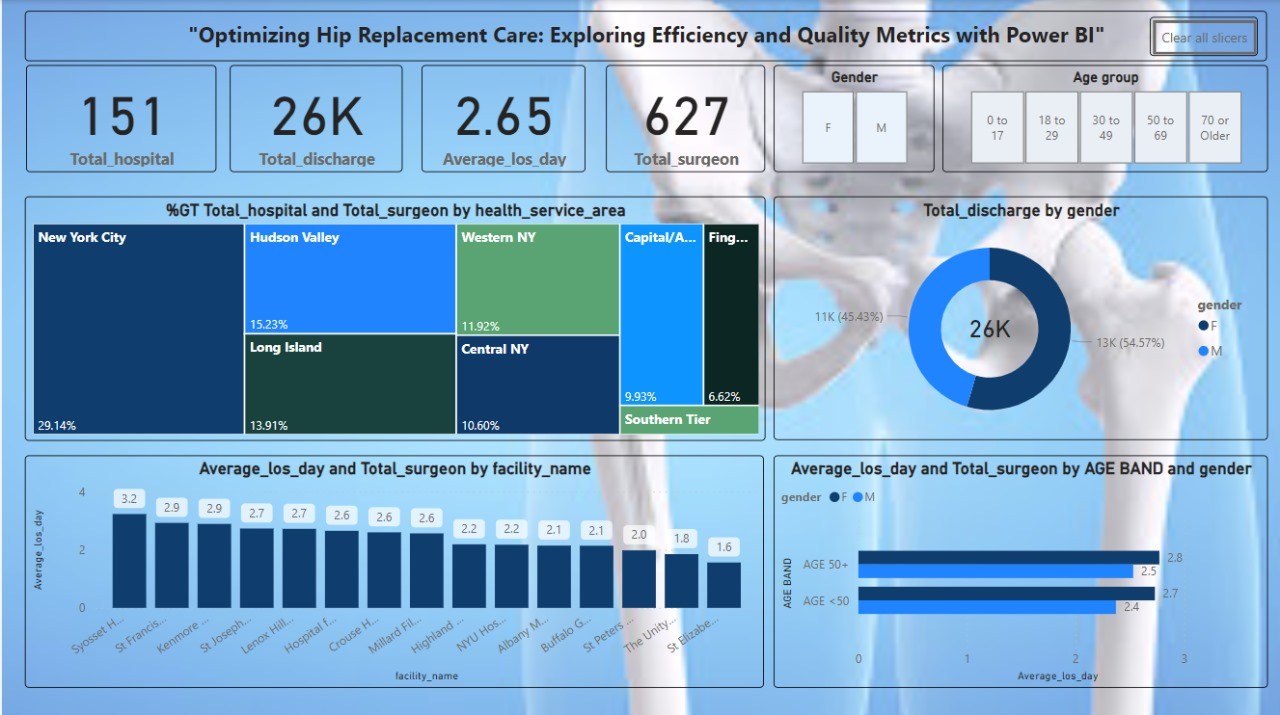

Layout of this report page (visuals, bound fields, positions):
{"tool":"powerbi","page":{"name":"DASHBOARD","canvas":[1280,720],"ordinal":0},"visuals":[{"type":"treemap","fields":{"Values":["measure.Total_hospital"],"Group":["hospital_inpatient_discharges_totalhipreplacement.health_service_area"]},"box":[23.2,196.8,740.8,244.5],"z":0},{"type":"card","fields":{"Values":["measure.Total_hospital"]},"box":[23.8,65,190,107.5],"z":1000},{"type":"donutChart","fields":{"Y":["measure.Total_discharge"],"Category":["hospital_inpatient_discharges_totalhipreplacement.gender"]},"box":[772.1,196.5,494.2,244.2],"z":2000},{"type":"card","fields":{"Values":["measure.Total_discharge"]},"box":[227.5,65,172.5,107.5],"z":3000},{"type":"card","fields":{"Values":["measure.Average_los_day"]},"box":[420,65,163.8,107.5],"z":4000},{"type":"clusteredBarChart","fields":{"Y":["measure.Average_los_day"],"Series":["hospital_inpatient_discharges_totalhipreplacement.gender"],"Category":["hospital_inpatient_discharges_totalhipreplacement.AGE BAND"]},"box":[772.1,455.8,494.2,232.6],"z":5000},{"type":"lineStackedColumnComboChart","fields":{"Y":["measure.Average_los_day"],"Category":["hospital_inpatient_discharges_totalhipreplacement.facility_name"]},"box":[23.3,455.8,739.5,232.6],"z":6000},{"type":"card","fields":{"Values":["measure.Total_surgeon"]},"box":[603.9,64.8,158.9,107.6],"z":7000},{"type":"textbox","box":[23.3,11.1,1242.2,50],"z":8000},{"type":"actionButton","box":[1147.8,16.7,107.8,38.9],"z":9000},{"type":"slicer","title":"Gender","fields":{"Values":["hospital_inpatient_discharges_totalhipreplacement.gender"]},"box":[772.1,65.1,160.5,107],"z":10000},{"type":"slicer","title":"Age group","fields":{"Values":["hospital_inpatient_discharges_totalhipreplacement.age_group"]},"box":[940.7,65.1,325.6,107],"z":11000},{"type":"card","fields":{"Values":["measure.Total_discharge"]},"box":[955.8,308.1,64,41.9],"z":11001}]}

Visuals, with their boxes in screenshot pixels (x1, y1, x2, y2), scaled from the page's 1280x720 canvas onto the 1280x715 screenshot:
treemap - measure.Total_hospital x hospital_inpatient_discharges_totalhipreplacement.health_service_area: {"left": 23, "top": 195, "right": 764, "bottom": 438}
card - measure.Total_hospital: {"left": 24, "top": 65, "right": 214, "bottom": 171}
donutChart - measure.Total_discharge x hospital_inpatient_discharges_totalhipreplacement.gender: {"left": 772, "top": 195, "right": 1266, "bottom": 438}
card - measure.Total_discharge: {"left": 228, "top": 65, "right": 400, "bottom": 171}
card - measure.Average_los_day: {"left": 420, "top": 65, "right": 584, "bottom": 171}
clusteredBarChart - measure.Average_los_day x hospital_inpatient_discharges_totalhipreplacement.gender: {"left": 772, "top": 453, "right": 1266, "bottom": 684}
lineStackedColumnComboChart - measure.Average_los_day x hospital_inpatient_discharges_totalhipreplacement.facility_name: {"left": 23, "top": 453, "right": 763, "bottom": 684}
card - measure.Total_surgeon: {"left": 604, "top": 64, "right": 763, "bottom": 171}
textbox: {"left": 23, "top": 11, "right": 1266, "bottom": 61}
actionButton: {"left": 1148, "top": 17, "right": 1256, "bottom": 55}
"Gender" slicer: {"left": 772, "top": 65, "right": 933, "bottom": 171}
"Age group" slicer: {"left": 941, "top": 65, "right": 1266, "bottom": 171}
card - measure.Total_discharge: {"left": 956, "top": 306, "right": 1020, "bottom": 348}
